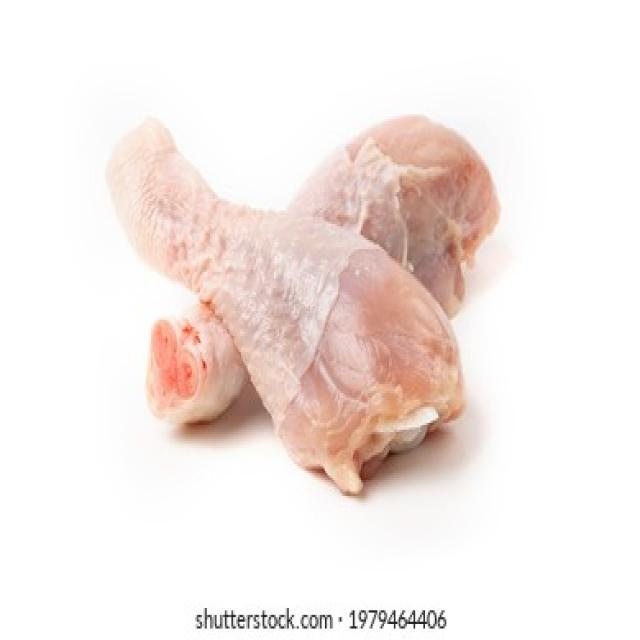leg: (102, 114, 464, 464), (122, 122, 500, 414)
